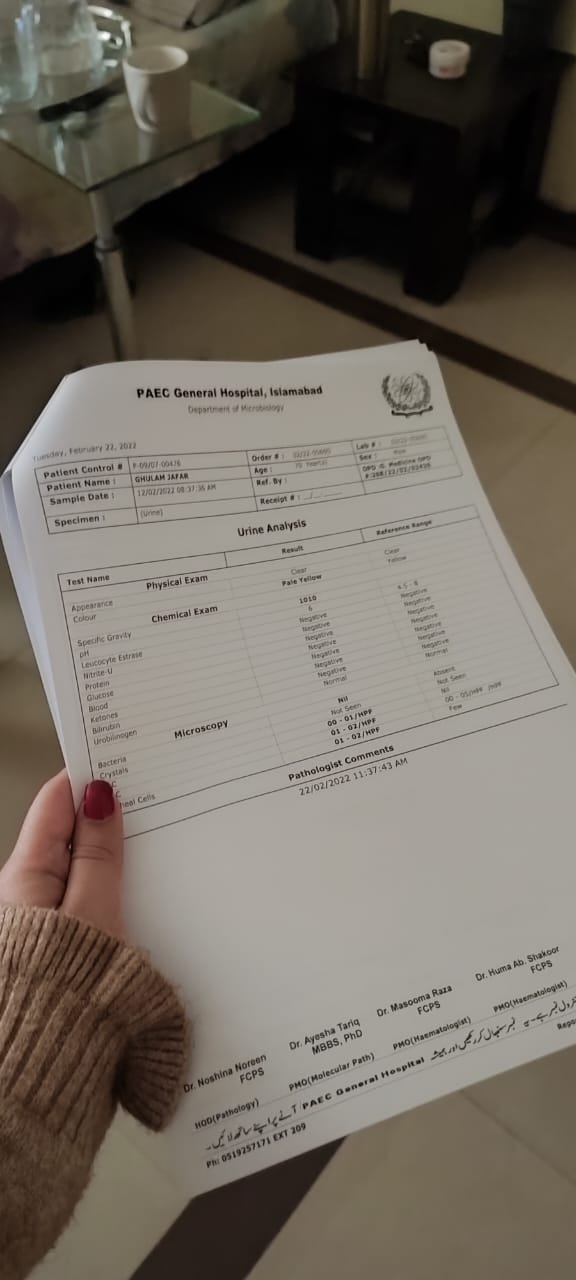report: (55, 502, 552, 823)
